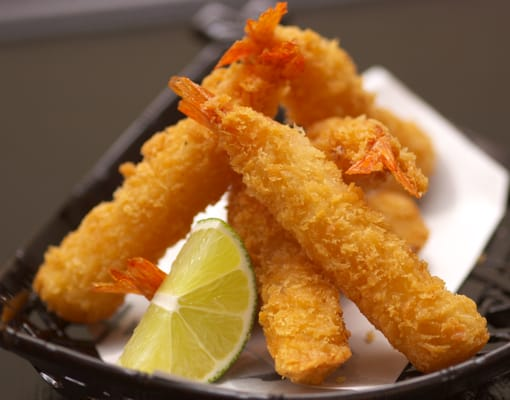taco: (115, 221, 258, 384)
